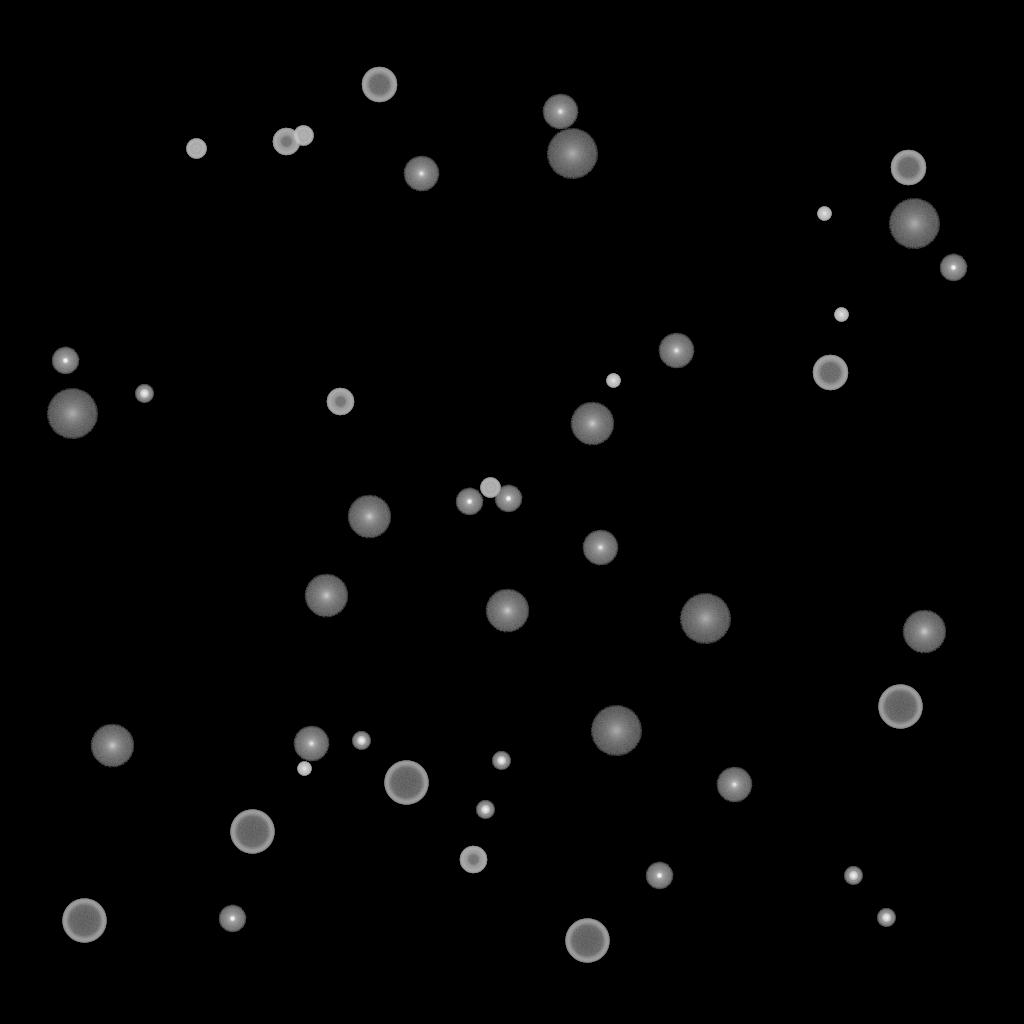depth:-10: (494, 485, 522, 513), (455, 488, 483, 516), (645, 862, 673, 890), (218, 905, 246, 933), (939, 254, 967, 282), (51, 347, 79, 375)
depth:-20: (476, 801, 494, 819), (877, 909, 895, 927), (844, 867, 862, 885), (135, 385, 153, 403), (492, 752, 510, 770), (352, 732, 370, 750)
depth:-30: (606, 374, 620, 388), (297, 762, 311, 776), (817, 207, 831, 221), (834, 308, 848, 322)
depth:-40: (186, 139, 206, 159), (480, 478, 500, 498), (293, 126, 313, 146)
depth:-50: (459, 846, 487, 874), (272, 128, 300, 156), (326, 388, 354, 416)
depth:-60: (812, 355, 848, 391), (890, 150, 926, 186), (361, 67, 397, 103)
depth:-70: (565, 919, 609, 963), (878, 685, 922, 729), (230, 810, 274, 854), (384, 761, 428, 805), (62, 899, 106, 943)
depth:0: (542, 94, 578, 130), (293, 726, 329, 762), (403, 156, 439, 192), (716, 767, 752, 803), (582, 530, 618, 566), (658, 333, 694, 369)
depth:10: (90, 724, 134, 768), (304, 574, 348, 618), (570, 402, 614, 446), (347, 495, 391, 539), (902, 610, 946, 654), (485, 589, 529, 633)
depth:20: (679, 594, 731, 644), (46, 389, 98, 439), (546, 129, 598, 179), (888, 199, 940, 249), (590, 706, 642, 756)
